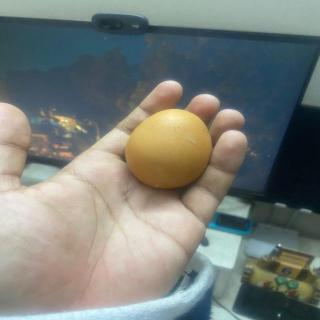Telur: (122, 104, 218, 194)
